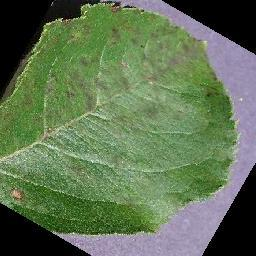apple healthy: (0, 0, 240, 238)
